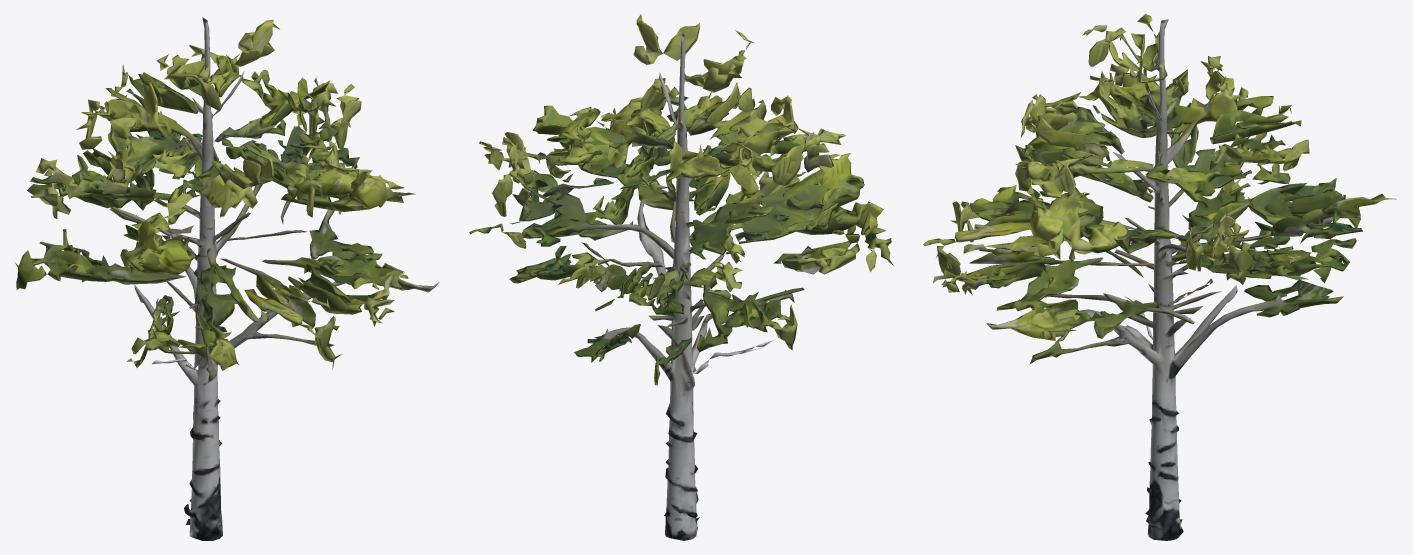
The model's file is birch.glb.
3 renders of one model, left to right at view 1: azimuth 30°, elevation 25°; view 2: azimuth 150°, elevation 25°; view 3: azimuth 270°, elevation 25°, orthographic. The views are drawn at different scales.
Visible parts, largest first — view 1: tripo_node_6cd35187-d255-4fb2-893a-89fa41d4008c; view 2: tripo_node_6cd35187-d255-4fb2-893a-89fa41d4008c; view 3: tripo_node_6cd35187-d255-4fb2-893a-89fa41d4008c.
Part boxes in pixels (left/top/right/bottom): tripo_node_6cd35187-d255-4fb2-893a-89fa41d4008c: left=14, top=17, right=439, bottom=540; tripo_node_6cd35187-d255-4fb2-893a-89fa41d4008c: left=469, top=14, right=893, bottom=540; tripo_node_6cd35187-d255-4fb2-893a-89fa41d4008c: left=923, top=14, right=1396, bottom=540.
Size of the model in its own units: 0.6725 by 0.9975 by 0.8366.
Materials: 1 (1 with a texture image).
